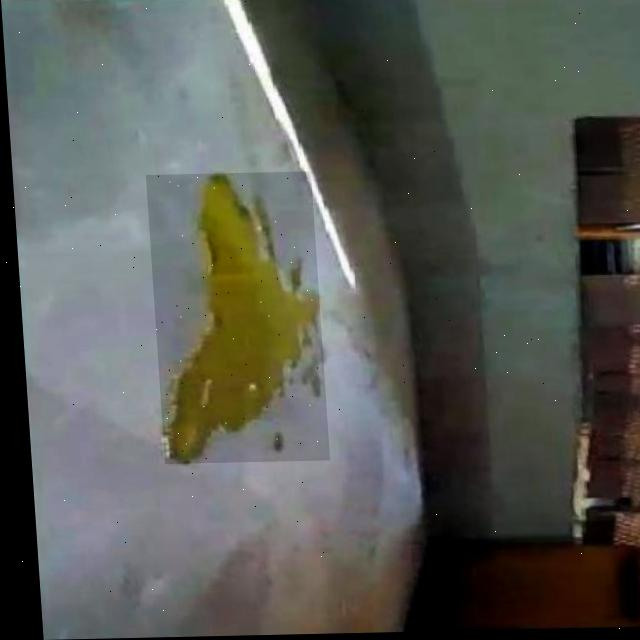spillage: (156, 175, 314, 464)
